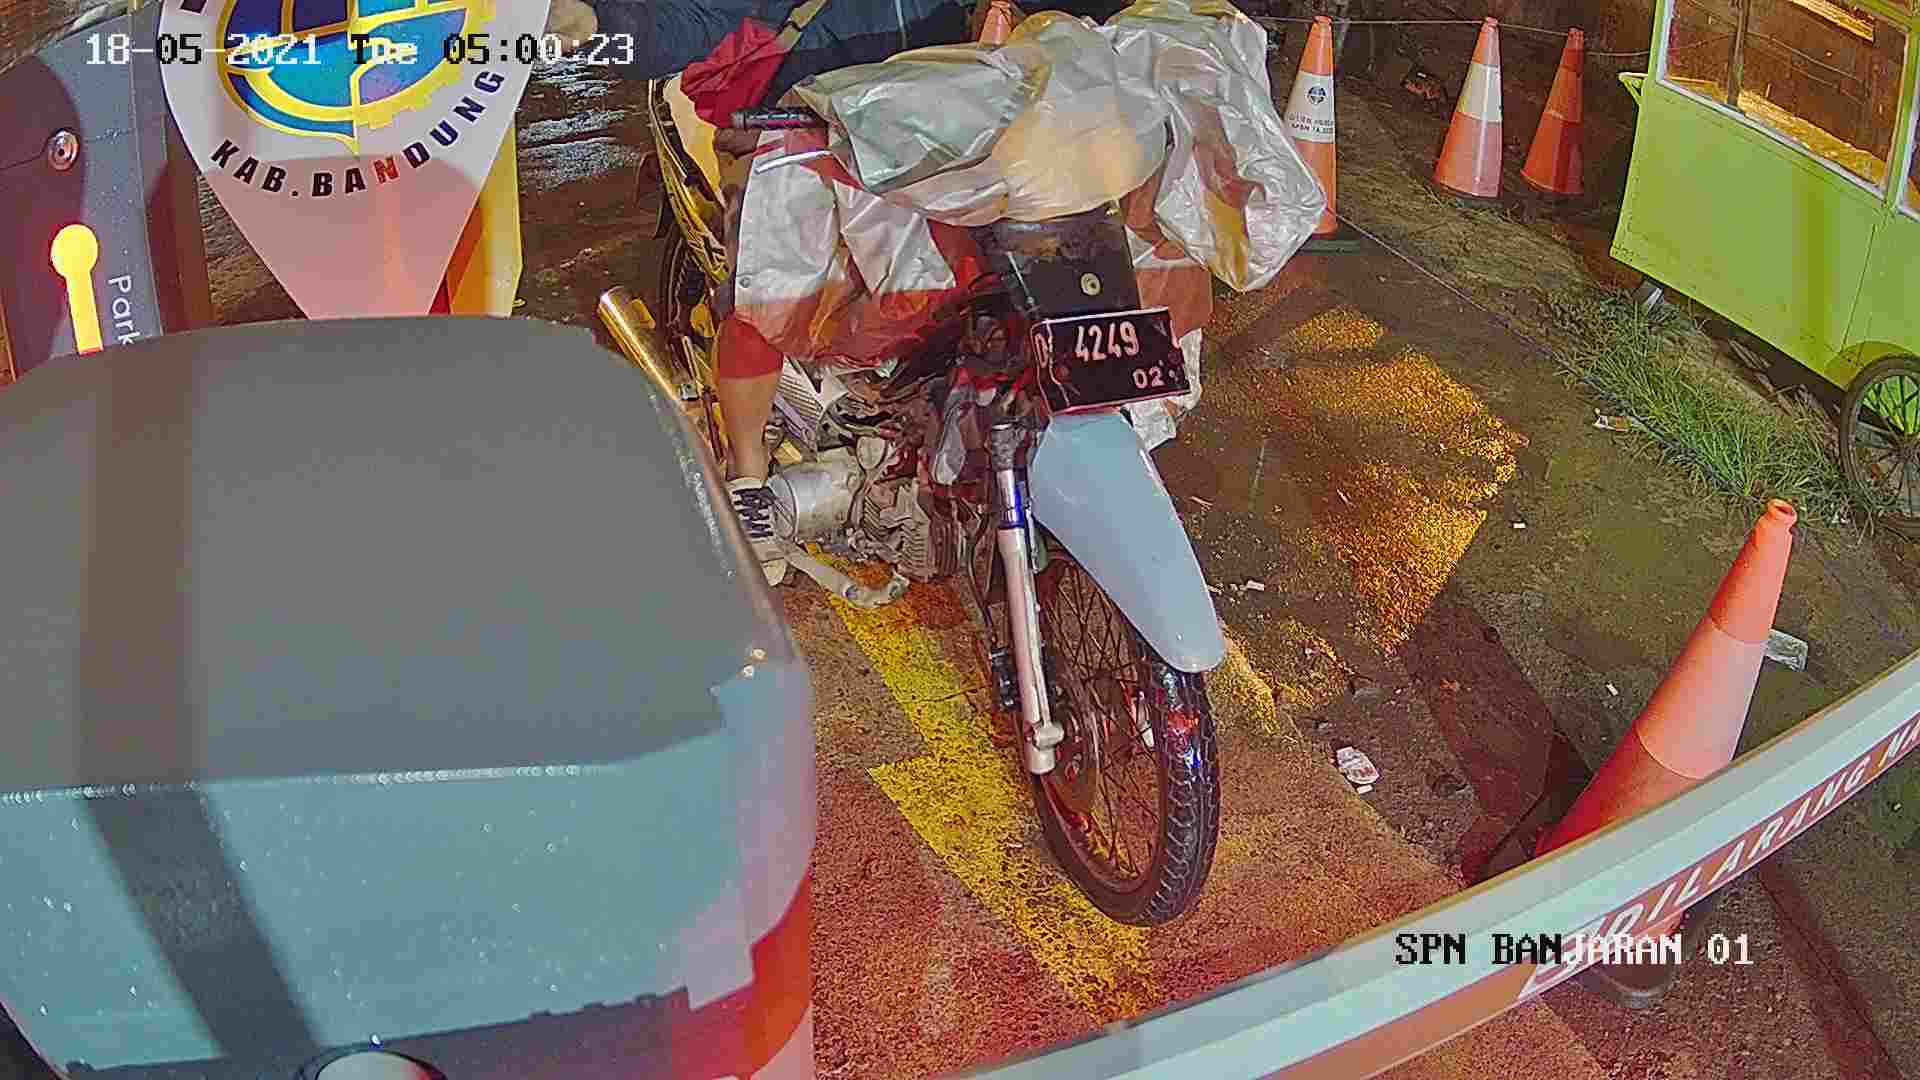motor: (603, 127, 1305, 926)
